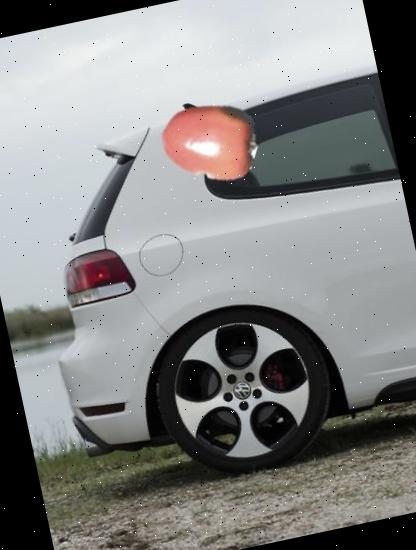Kaki: (152, 82, 266, 196)
